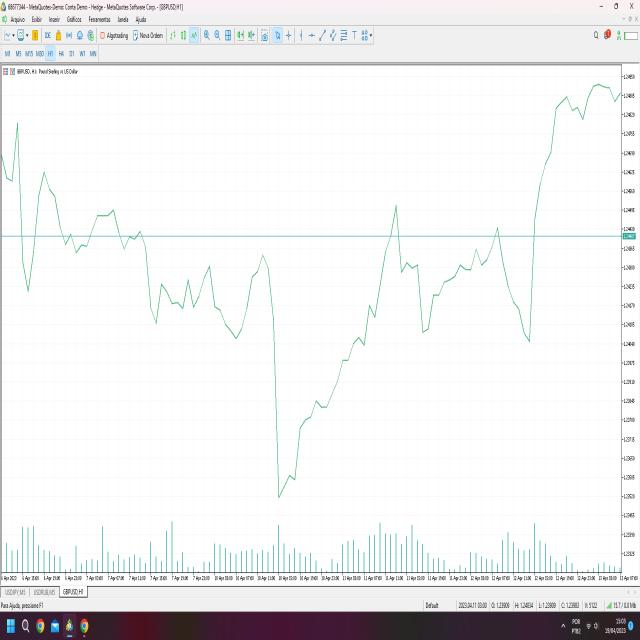bandeira_baixa: (127, 222, 178, 338)
